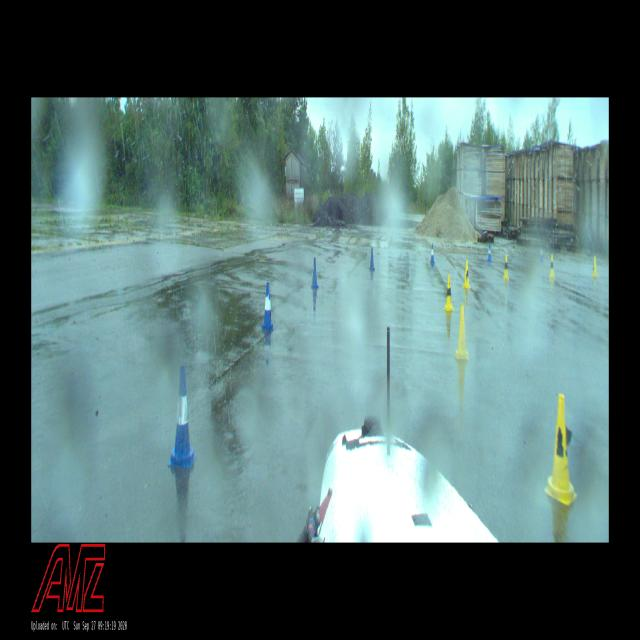blue_cone: (168, 365, 197, 468), (261, 282, 274, 330), (311, 257, 319, 289), (369, 247, 375, 271), (430, 244, 435, 264), (488, 242, 492, 262), (540, 244, 544, 262)
yellow_cone: (544, 394, 577, 505), (455, 304, 469, 360), (444, 274, 454, 311), (462, 260, 471, 289), (549, 254, 555, 277), (592, 256, 598, 278), (504, 255, 509, 280)
